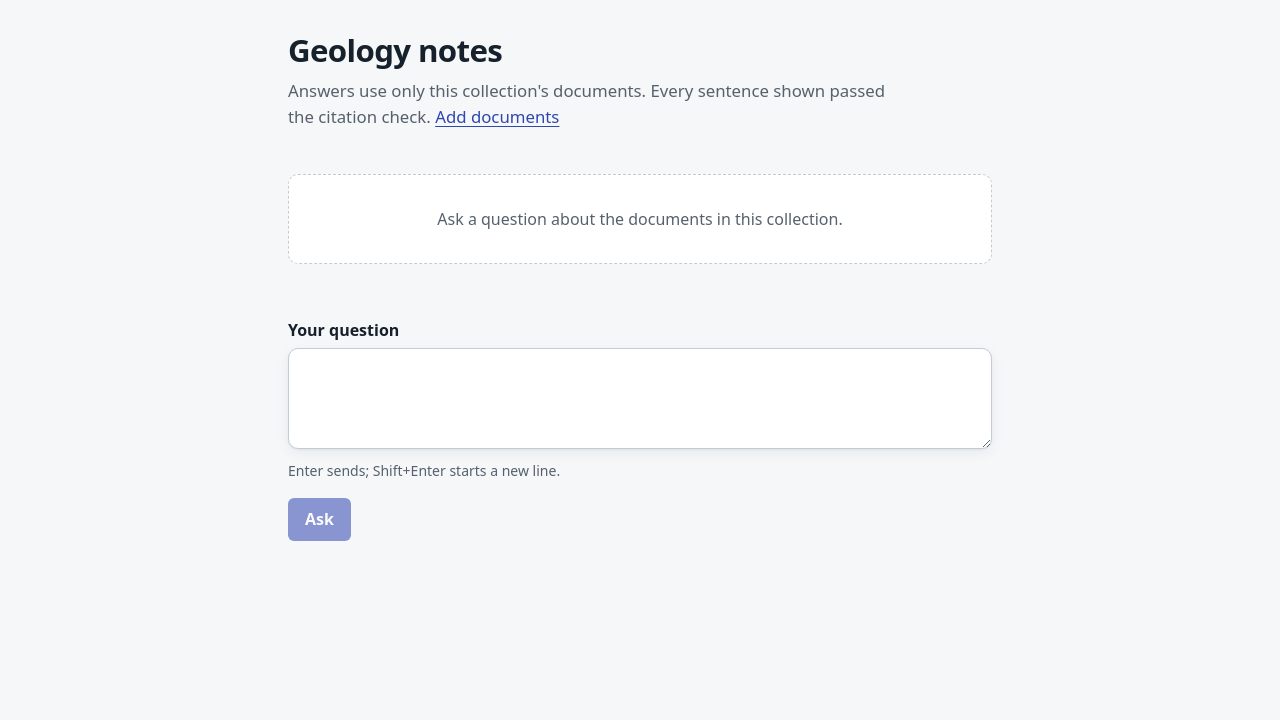
a citation chip opens the source panel with the cited passage
In the text box labelled "Your question": x=640, y=398 288,348 -> 992,449, type "What is attention?"
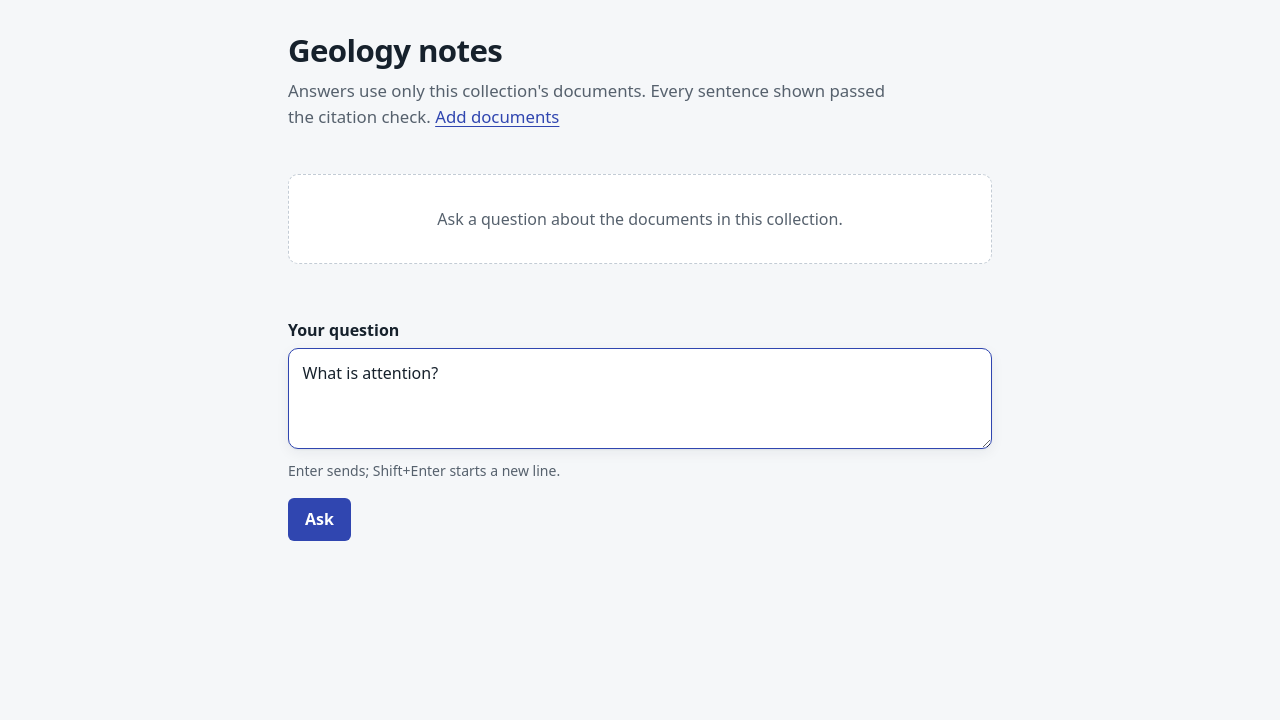
Press Enter
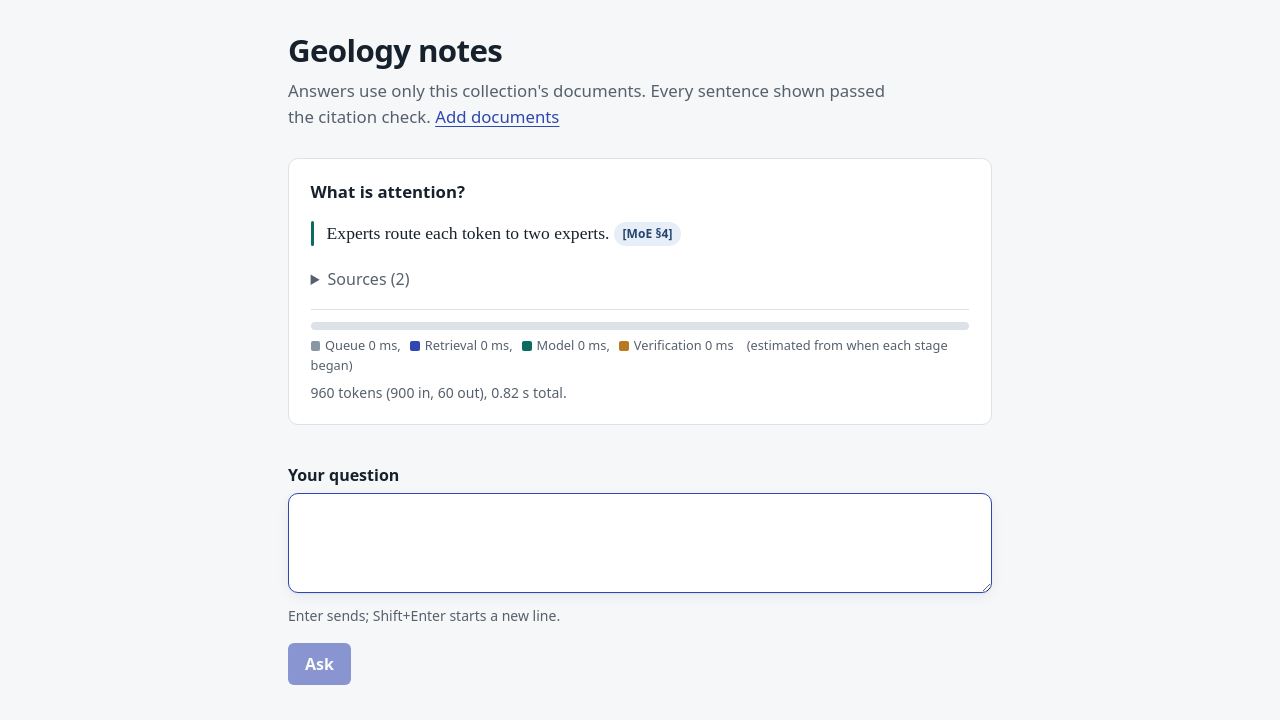
Click the button "[MoE §4]": x=648, y=234 614,222 -> 681,246
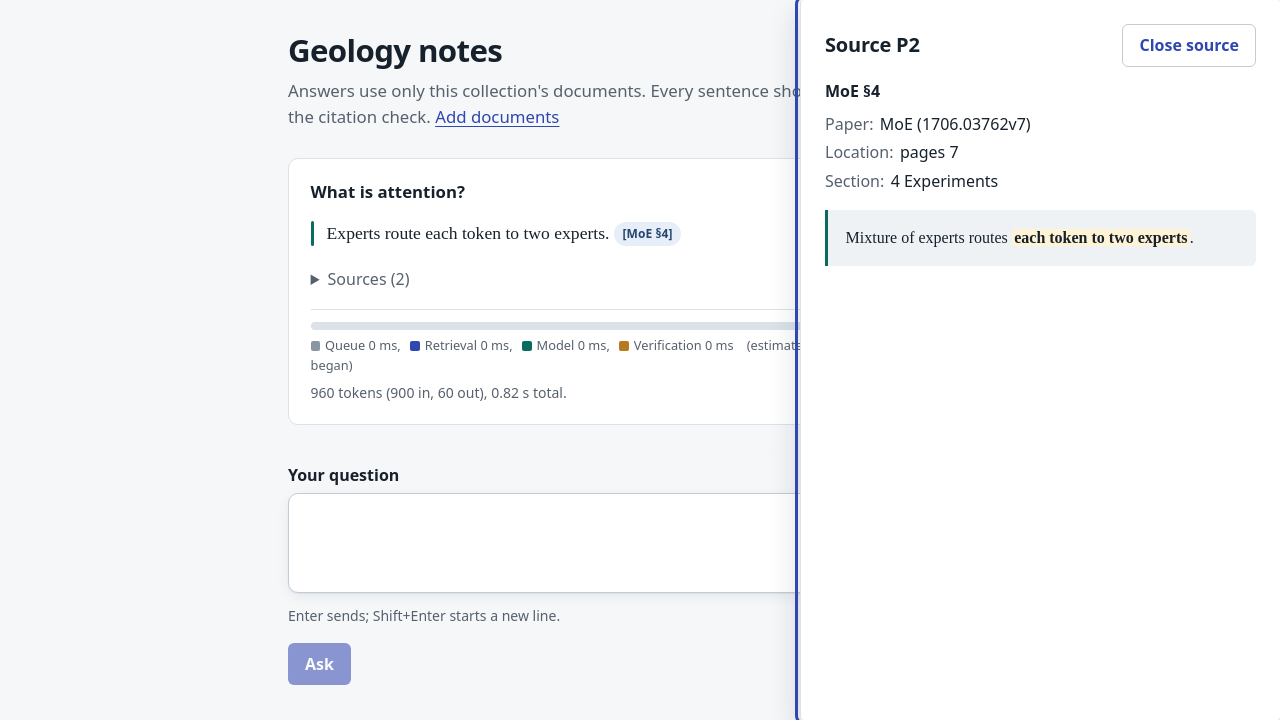
Now the dialog "Source P2" shows "MoE", box 825,80 -> 880,102
Now the dialog "Source P2" shows "pages 7", box 800,0 -> 1279,719
Now the dialog "Source P2" shows "4 Experiments", box 891,170 -> 998,192
Press Escape
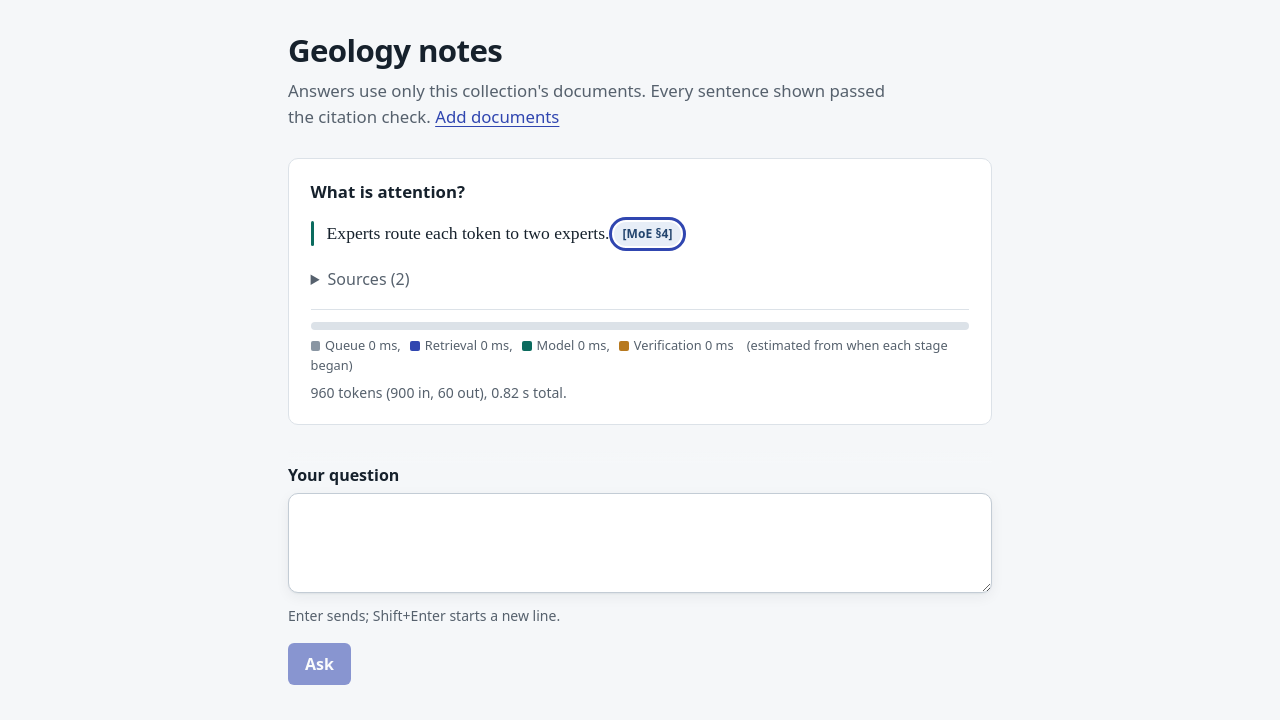
Now the dialog is gone
